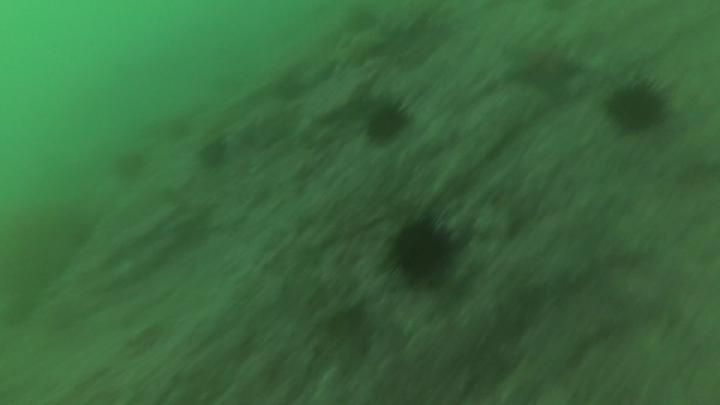echinus: (383, 211, 460, 289), (602, 73, 673, 137), (362, 99, 412, 146), (111, 148, 149, 184), (196, 136, 231, 171), (164, 114, 194, 142)
starfish: (501, 34, 584, 99)
